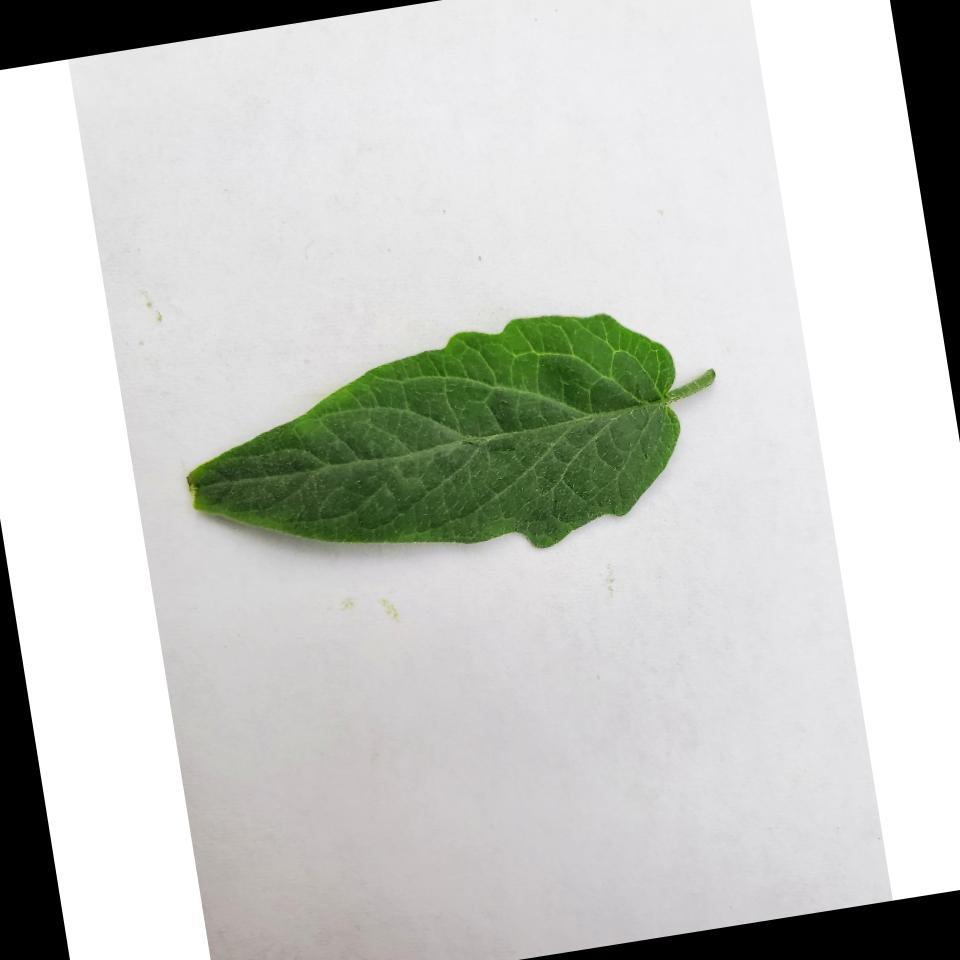tomato_leaves: (169, 272, 759, 602)
